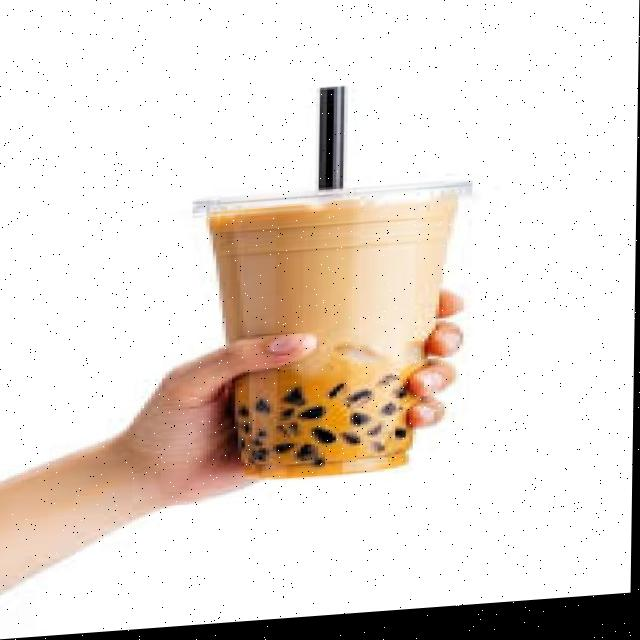cup: (198, 194, 461, 482)
